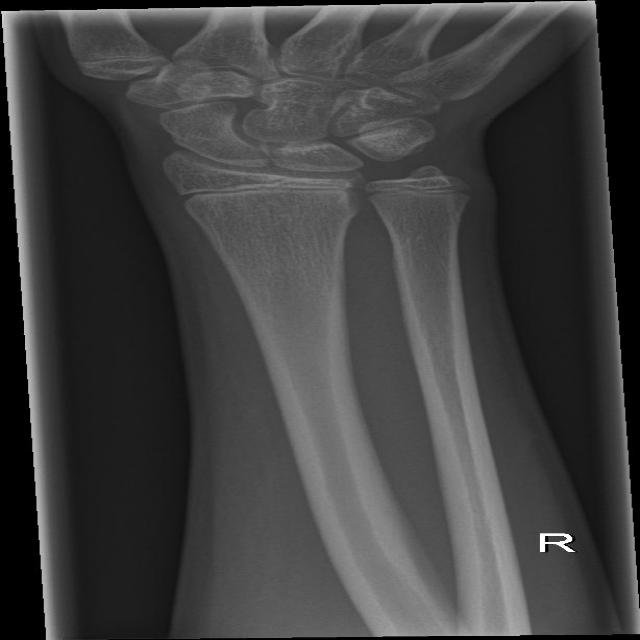fracture: (167, 176, 358, 208), (346, 177, 492, 203)
